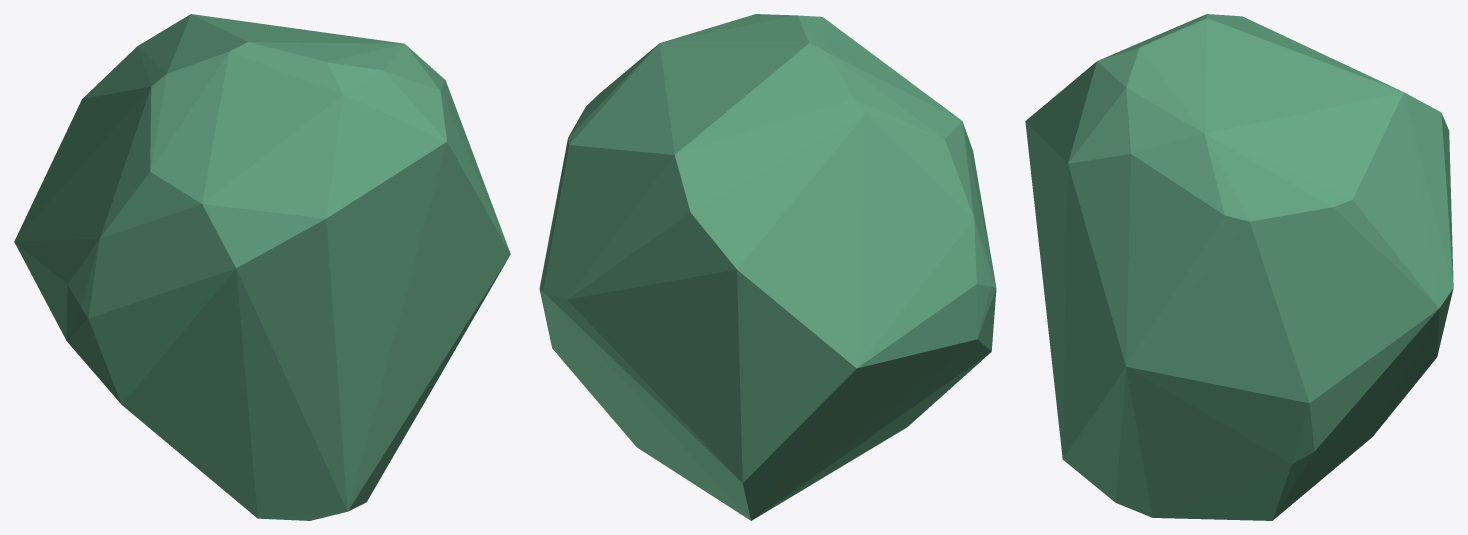
The model's file is food_produce_apple_c01.glb.
3 renders of one model, left to right at view 1: azimuth 30°, elevation 25°; view 2: azimuth 150°, elevation 25°; view 3: azimuth 270°, elevation 25°, orthographic. The views are drawn at different scales.
Parts seen in each view (by area): view 1: geometry_0; view 2: geometry_0; view 3: geometry_0.
Part boxes in pixels (left/top/right/bottom): geometry_0: left=14, top=14, right=510, bottom=520; geometry_0: left=539, top=14, right=996, bottom=520; geometry_0: left=1025, top=14, right=1453, bottom=520.
Bounding box in the file's own units: 0.4289 × 0.4574 × 0.3904.
